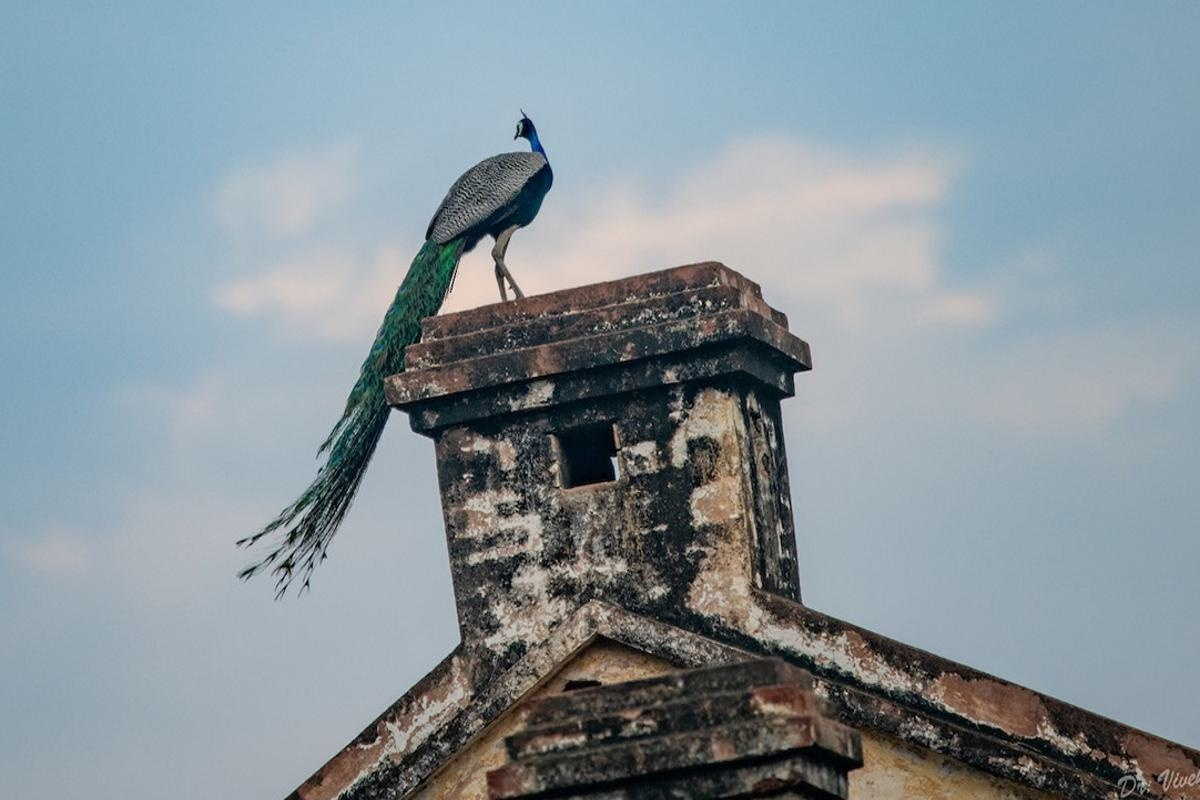peacock: (243, 88, 579, 615)
